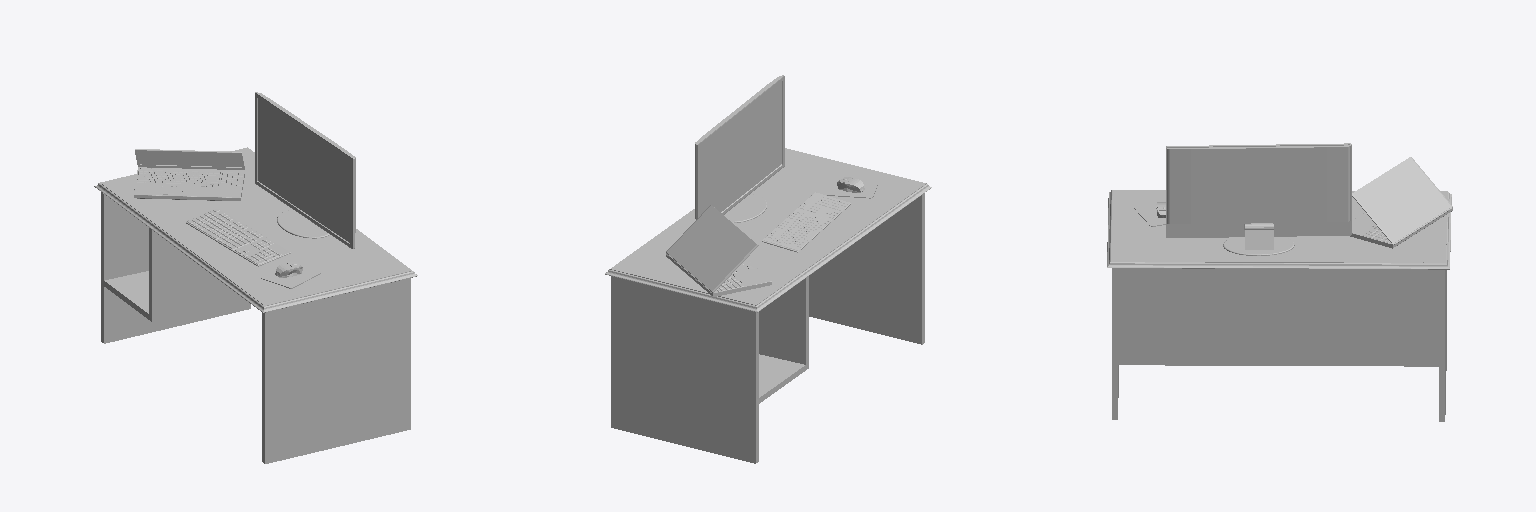
The model's file is desk.obj.
3 views of the same model, side by side, from view 1: azimuth 30°, elevation 25°; view 2: azimuth 150°, elevation 25°; view 3: azimuth 270°, elevation 25° (orthographic).
Visible parts, largest first — view 1: 7.002, 7.006, 7, 7.001, 7.005, 7.008, 7.007, 7.009, 7.004; view 2: 7.002, 7.006, 7, 7.001, 7.005, 7.007, 7.009, 7.004; view 3: 7.002, 7.006, 7, 7.001, 7.007.
Part boxes in pixels (bbox=[...]): 7.002: bbox=[101, 148, 410, 463]; 7.006: bbox=[255, 92, 355, 248]; 7: bbox=[134, 149, 244, 200]; 7.001: bbox=[94, 147, 417, 312]; 7.005: bbox=[187, 209, 281, 264]; 7.008: bbox=[137, 170, 243, 186]; 7.007: bbox=[277, 210, 329, 238]; 7.009: bbox=[186, 209, 290, 266]; 7.004: bbox=[261, 265, 320, 288]; 7.002: bbox=[611, 149, 924, 463]; 7.006: bbox=[695, 75, 784, 219]; 7: bbox=[666, 205, 771, 296]; 7.001: bbox=[605, 148, 931, 312]; 7.005: bbox=[764, 195, 849, 250]; 7.007: bbox=[724, 194, 766, 222]; 7.009: bbox=[762, 192, 850, 252]; 7.004: bbox=[825, 178, 878, 198]; 7.002: bbox=[1112, 190, 1446, 421]; 7.006: bbox=[1166, 143, 1351, 237]; 7: bbox=[1350, 157, 1452, 248]; 7.001: bbox=[1107, 190, 1451, 269]; 7.007: bbox=[1223, 223, 1294, 255].
Bounding box in the file's own units: 1.17 × 1.84 × 2.23.